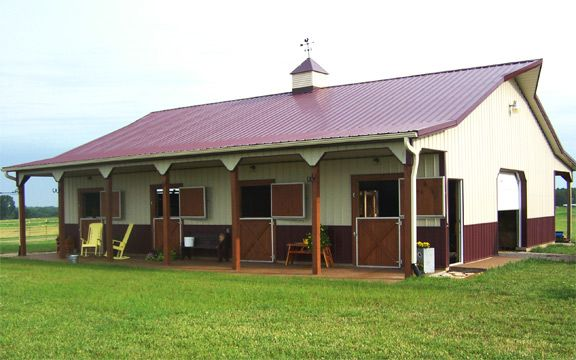Tin-shade House: (17, 53, 556, 260)
